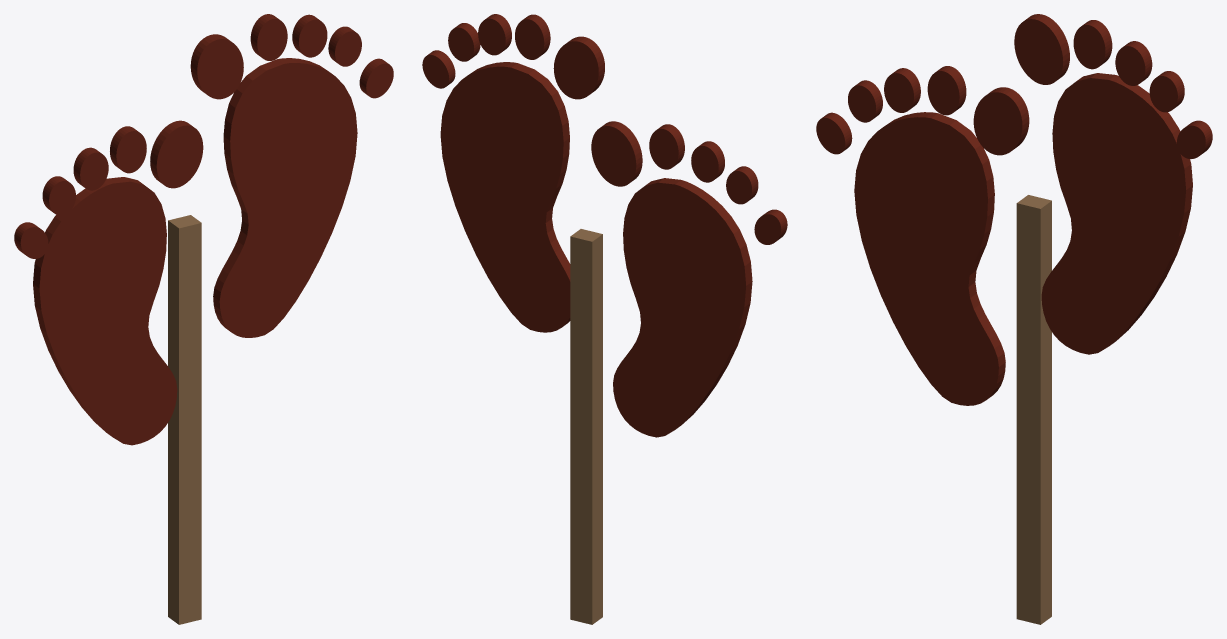
Rendered from traces.glb.
3 renders of one model, left to right at view 1: azimuth 30°, elevation 25°; view 2: azimuth 150°, elevation 25°; view 3: azimuth 330°, elevation 25°, orthographic. The views are drawn at different scales.
Bounding box in the file's own units: 0.9823 × 1.5 × 0.129.
